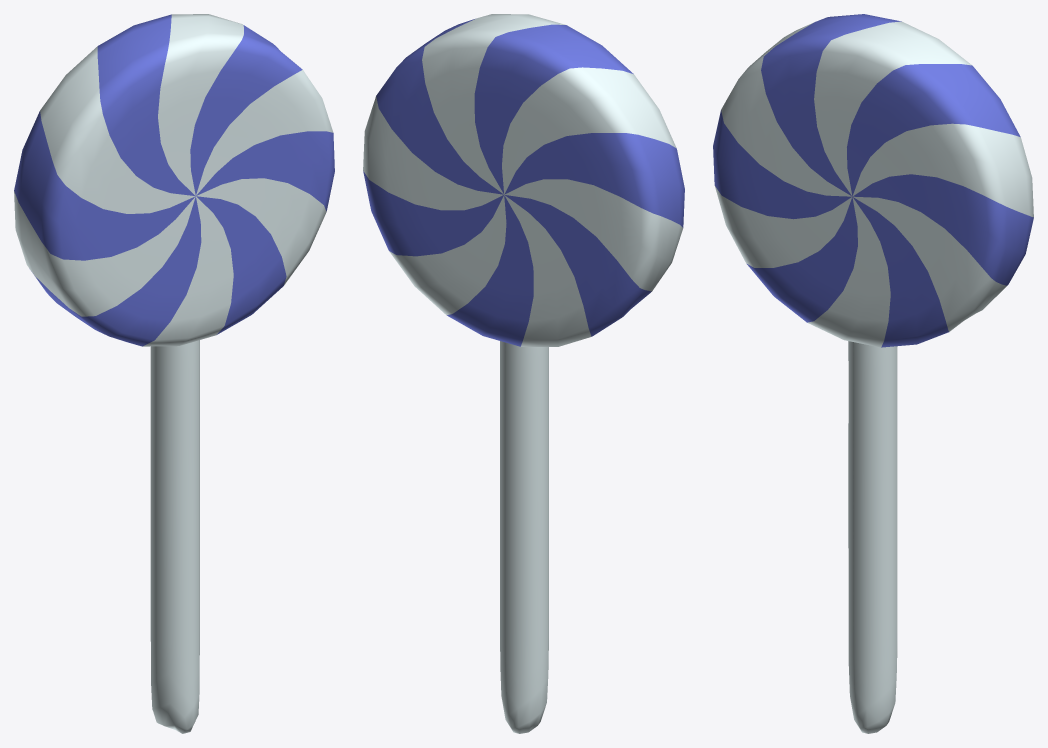
File: Lollipop_B_04.fbx
The picture shows the model from 3 angles, left to right: view 1: azimuth 30°, elevation 25°; view 2: azimuth 150°, elevation 25°; view 3: azimuth 330°, elevation 25°; orthographic projection.
Parts seen in each view (by area): view 1: Lollipop_B_04_LOD0; view 2: Lollipop_B_04_LOD0; view 3: Lollipop_B_04_LOD0.
Part boxes in pixels (x1,y1,x2,y2): Lollipop_B_04_LOD0: (14, 14, 334, 733); Lollipop_B_04_LOD0: (363, 14, 684, 733); Lollipop_B_04_LOD0: (713, 14, 1033, 733).
Size of what is drawn, in the model's own units: 503 by 1154 by 124.
